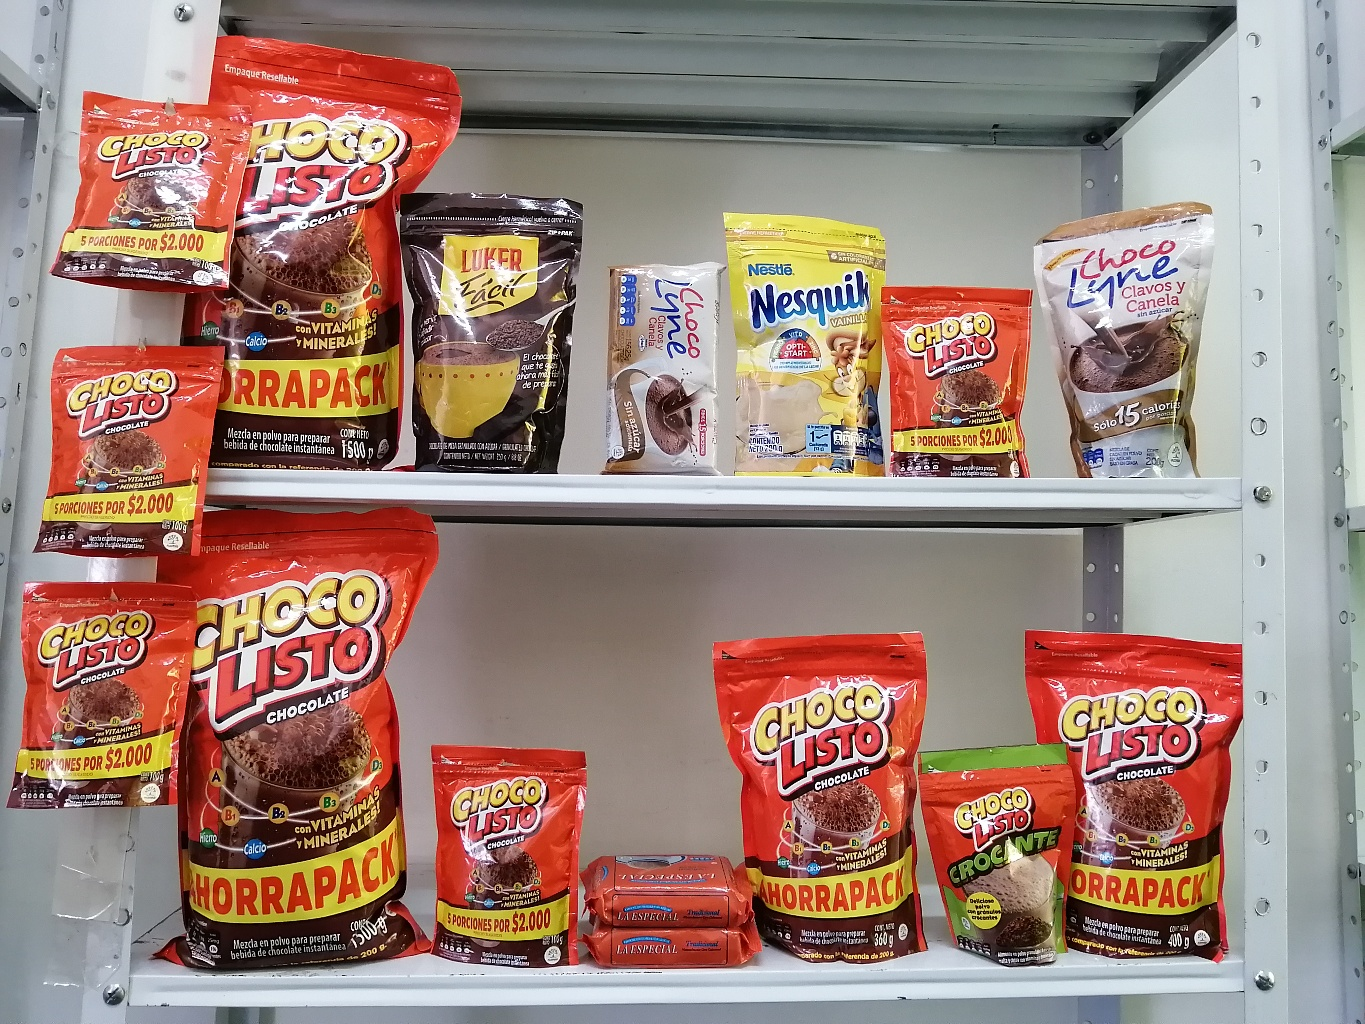COL0170102DYP10000: (925, 736, 1075, 958)
COL0170103DYP1,500: (154, 502, 442, 966)
COL0170103DYP10000: (422, 743, 581, 966)
COL0170103DYP36000: (710, 622, 933, 966)
COL0170103DYP40000: (1016, 607, 1248, 975)
COL0170306DYP20000: (713, 198, 887, 478)
